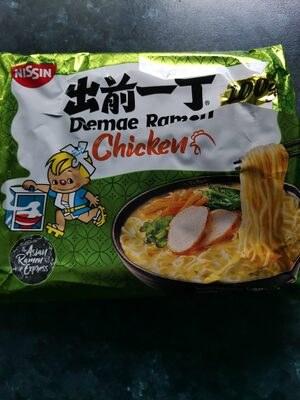Demae Ramen - Chicken: (15, 20, 285, 380)
